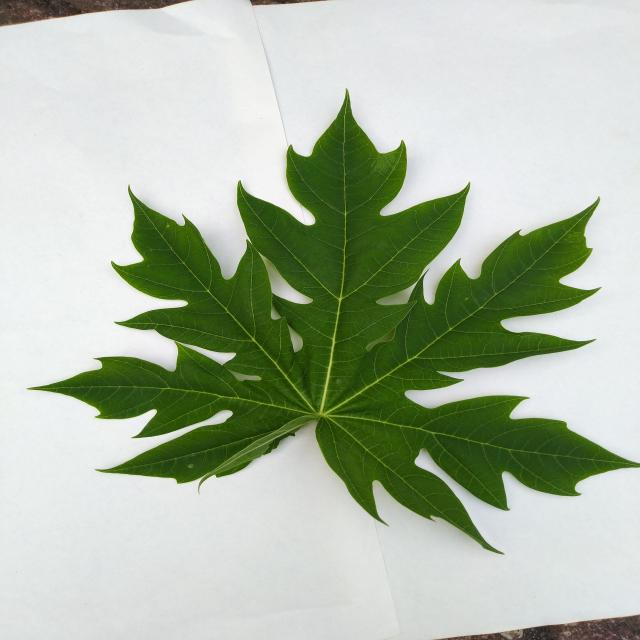papaya: (35, 96, 637, 552)
